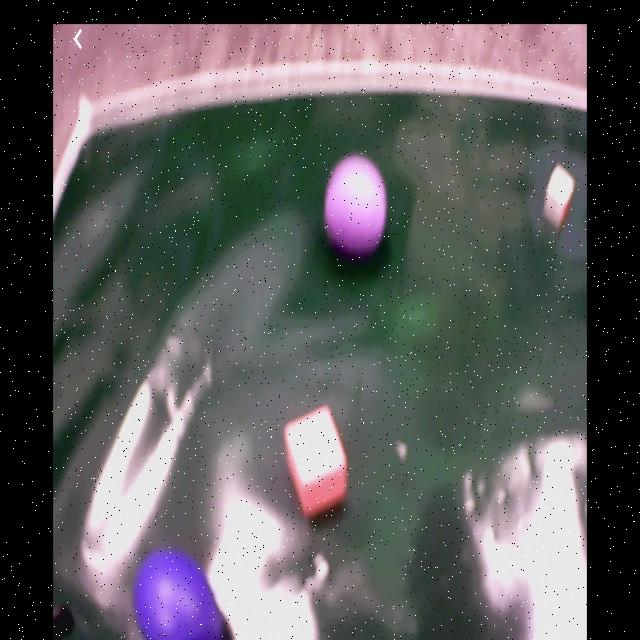ball: (134, 548, 218, 640), (325, 158, 386, 246)
